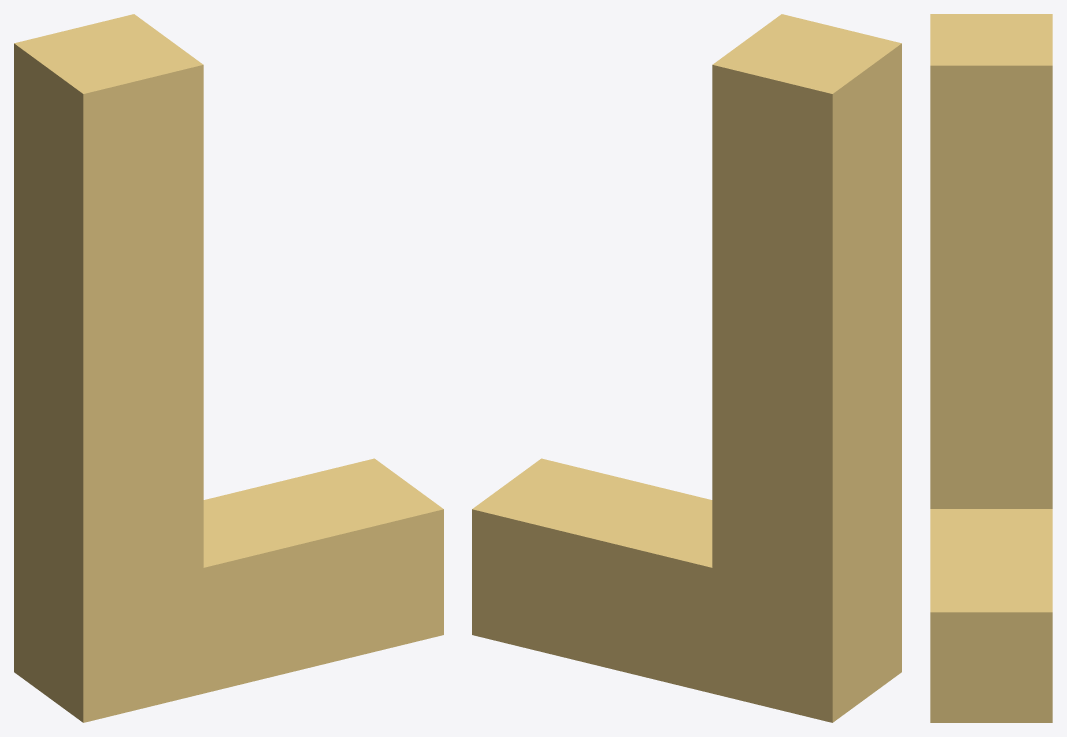
File: letter_l.glb
3 renders of one model, left to right at view 1: azimuth 30°, elevation 25°; view 2: azimuth 150°, elevation 25°; view 3: azimuth 270°, elevation 25°, orthographic. The views are drawn at different scales.
Visible parts, largest first — view 1: Geom; view 2: Geom; view 3: Geom.
Part boxes in pixels (bbox=[...]): Geom: bbox=[14, 14, 443, 722]; Geom: bbox=[472, 14, 901, 722]; Geom: bbox=[930, 14, 1052, 722].
Size of the model in its own units: 0.072 by 0.12 by 0.024.
